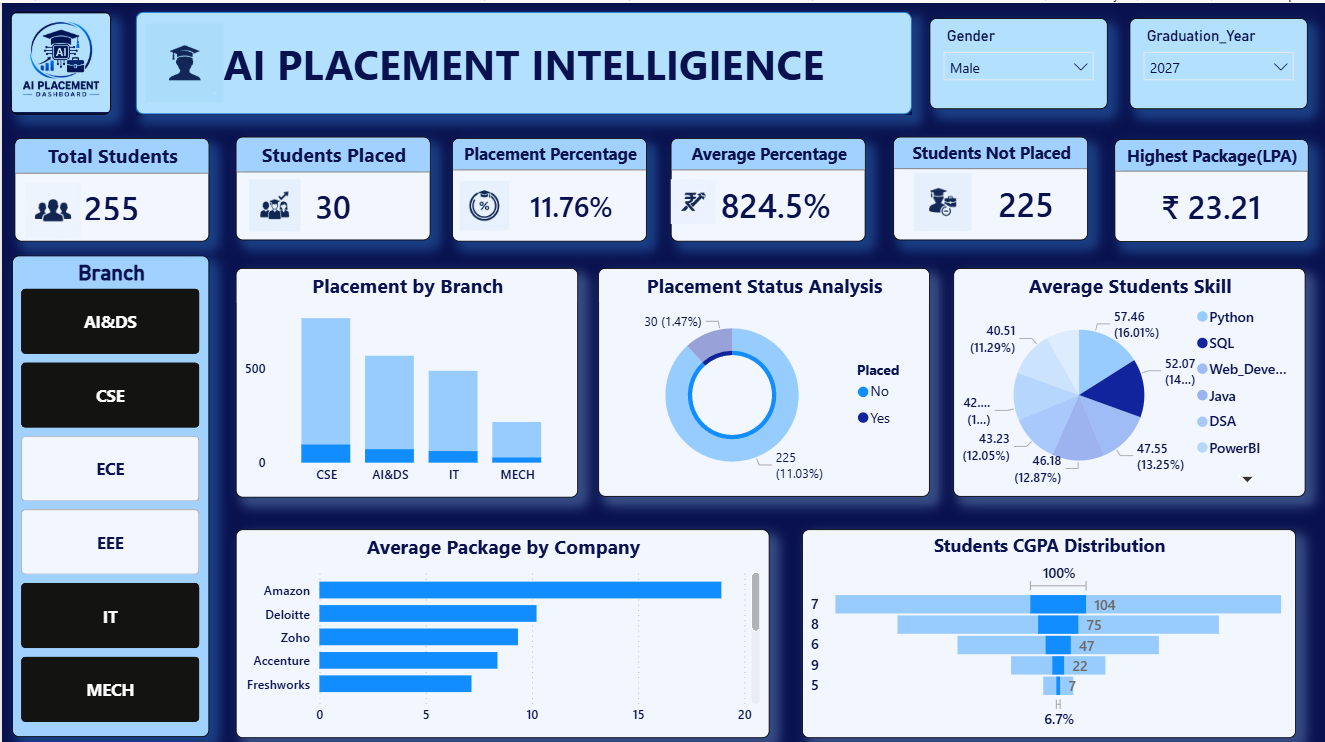

This screenshot's page, from the dashboard's own definition file:
{"tool":"powerbi","page":{"name":"Page 1","canvas":[1280,720],"ordinal":0},"visuals":[{"type":"image","box":[8.9,8.9,96.8,99.1],"z":0},{"type":"shape","box":[129.1,8.9,749.2,99.1],"z":1000},{"type":"image","box":[138.4,18.6,75.6,79.1],"z":2000},{"type":"advancedSlicerVisual","fields":{"Values":["Sheet1.Branch"]},"box":[9.3,244.2,190.7,465.1],"z":3000},{"type":"slicer","fields":{"Values":["Sheet1.Graduation_Year"]},"box":[1088.4,14,172.1,88.4],"z":4000},{"type":"slicer","fields":{"Values":["Sheet1.Gender"]},"box":[895.4,14,172.1,88.4],"z":5000},{"type":"cardVisual","title":"Total Students","fields":{"Data":["Sheet1.Total Students"]},"box":[11.6,130.2,188.4,100],"z":6000},{"type":"image","box":[30.2,170.9,53.5,58.1],"z":7000},{"type":"cardVisual","title":"Students Placed","fields":{"Data":["Sheet1.Students Placed"]},"box":[225.6,129.1,188.4,100],"z":8000},{"type":"image","box":[234.9,169.8,55.8,50],"z":9000},{"type":"cardVisual","title":"Placement Percentage","fields":{"Data":["Sheet1.Placement Percentage"]},"box":[433.7,130.2,188.4,100],"z":10000},{"type":"image","box":[441.9,169.8,47.7,51.2],"z":11000},{"type":"cardVisual","title":"Average Percentage","fields":{"Data":["Sheet1.Average Package"]},"box":[645.4,130.2,188.4,100],"z":12000},{"type":"cardVisual","title":"Highest Package(LPA)","fields":{"Data":["Sheet1.Highest Package"]},"box":[1073.3,131.4,187.2,98.8],"z":13000},{"type":"image","box":[653.5,169.8,48.8,50],"z":14000},{"type":"cardVisual","title":"Students Not Placed ","fields":{"Data":["Sheet1.Students Not Placed"]},"box":[860.5,129.1,188.4,100],"z":15000},{"type":"image","box":[877.9,164,59.3,55.8],"z":16000},{"type":"clusteredBarChart","fields":{"Category":["Sheet1.Company"],"Y":["Sheet1.Average Package"]},"box":[225.6,507.9,515.2,201.5],"z":17000},{"type":"donutChart","title":" Placement Status Analysis","fields":{"Category":["Sheet1.Placed"],"Y":["CountNonNull(Sheet1.Student_ID)"]},"box":[575.5,255.8,319.7,220.8],"z":18000},{"type":"clusteredColumnChart","title":"Placement by Branch","fields":{"Category":["Sheet1.Branch"],"Y":["CountNonNull(Sheet1.Student_ID)"]},"box":[225.6,255.8,330.6,222],"z":19000},{"type":"funnel","title":"Students CGPA Distribution","fields":{"Category":["Sheet1.CGPA (bins)"],"Y":["CountNonNull(Sheet1.Student_ID)"]},"box":[772.1,507.9,476.5,201.5],"z":20000},{"type":"pieChart","title":"Average Students Skill ","fields":{"Category":["Sheet1.Skill"],"Y":["Avg(Sheet1.Skill Score)"]},"box":[918.1,255.8,340.2,220.8],"z":20001}]}

Visuals, with their boxes in screenshot pixels (x1, y1, x2, y2), scaled from the page's 1280x720 canvas onto the 1325x742 screenshot:
image: {"x1": 9, "y1": 9, "x2": 109, "y2": 111}
shape: {"x1": 134, "y1": 9, "x2": 909, "y2": 111}
image: {"x1": 143, "y1": 19, "x2": 222, "y2": 101}
advancedSlicerVisual - Sheet1.Branch: {"x1": 10, "y1": 252, "x2": 207, "y2": 731}
slicer - Sheet1.Graduation_Year: {"x1": 1127, "y1": 14, "x2": 1305, "y2": 106}
slicer - Sheet1.Gender: {"x1": 927, "y1": 14, "x2": 1105, "y2": 106}
"Total Students" cardVisual: {"x1": 12, "y1": 134, "x2": 207, "y2": 237}
image: {"x1": 31, "y1": 176, "x2": 87, "y2": 236}
"Students Placed" cardVisual: {"x1": 234, "y1": 133, "x2": 429, "y2": 236}
image: {"x1": 243, "y1": 175, "x2": 301, "y2": 227}
"Placement Percentage" cardVisual: {"x1": 449, "y1": 134, "x2": 644, "y2": 237}
image: {"x1": 457, "y1": 175, "x2": 507, "y2": 228}
"Average Percentage" cardVisual: {"x1": 668, "y1": 134, "x2": 863, "y2": 237}
"Highest Package(LPA)" cardVisual: {"x1": 1111, "y1": 135, "x2": 1305, "y2": 237}
image: {"x1": 676, "y1": 175, "x2": 727, "y2": 227}
"Students Not Placed " cardVisual: {"x1": 891, "y1": 133, "x2": 1086, "y2": 236}
image: {"x1": 909, "y1": 169, "x2": 970, "y2": 227}
clusteredBarChart - Sheet1.Company x Sheet1.Average Package: {"x1": 234, "y1": 523, "x2": 767, "y2": 731}
" Placement Status Analysis" donutChart: {"x1": 596, "y1": 264, "x2": 927, "y2": 491}
"Placement by Branch" clusteredColumnChart: {"x1": 234, "y1": 264, "x2": 576, "y2": 492}
"Students CGPA Distribution" funnel: {"x1": 799, "y1": 523, "x2": 1292, "y2": 731}
"Average Students Skill " pieChart: {"x1": 950, "y1": 264, "x2": 1303, "y2": 491}
